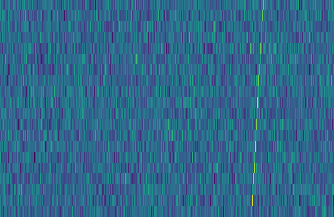signal: (248, 0, 269, 217)
